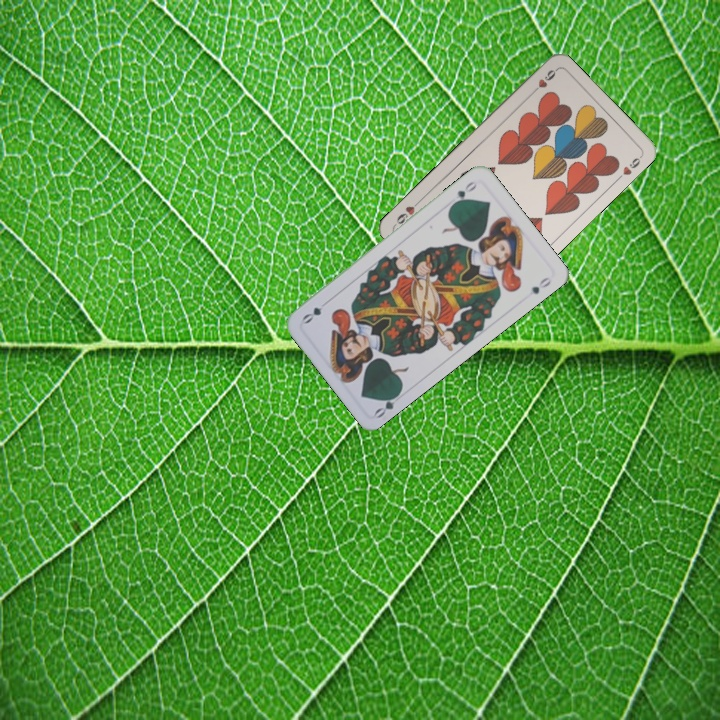GO: (370, 387, 404, 421), (448, 177, 480, 208)
H9: (527, 65, 559, 97)
